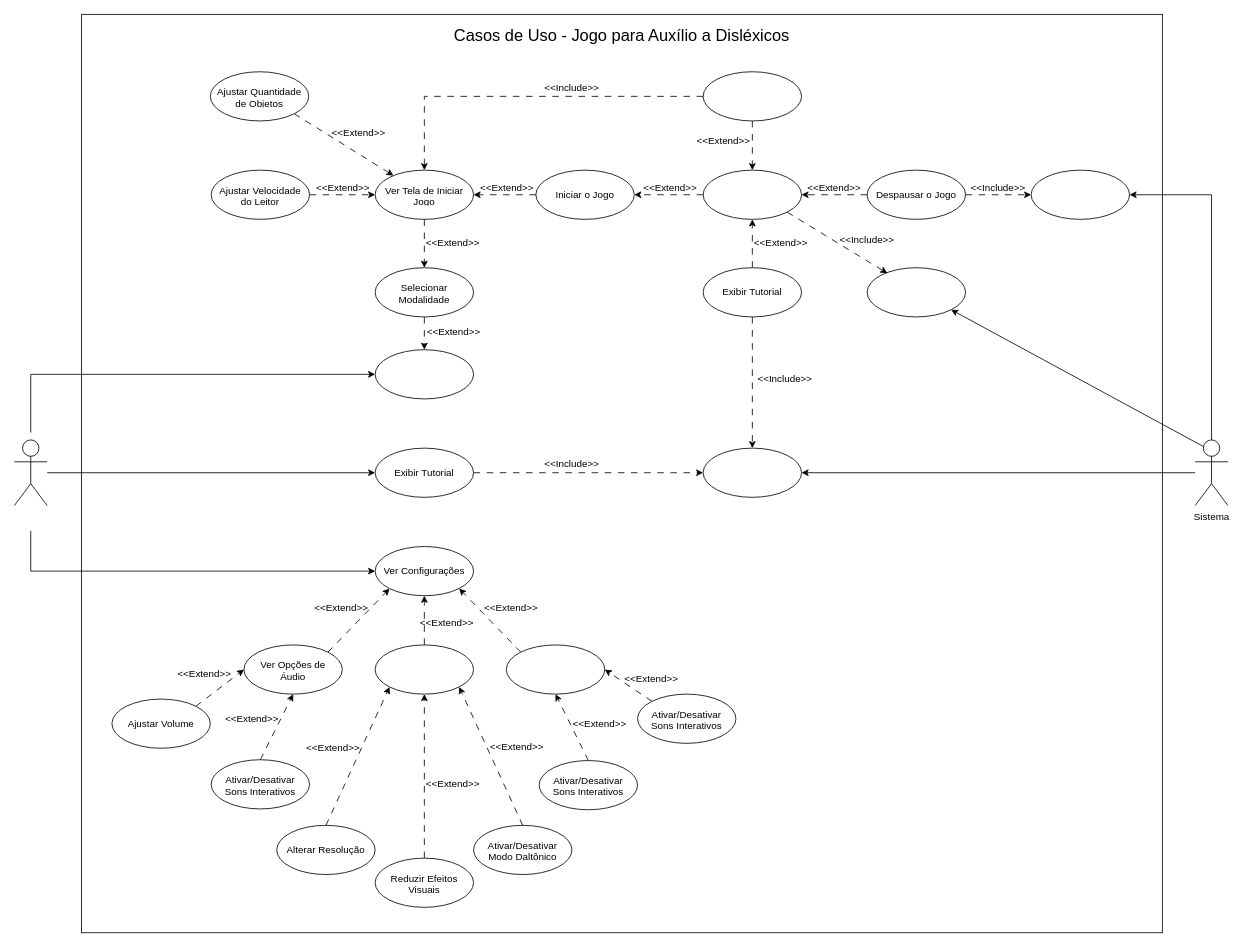
Image size: 1243x947. Some labels were removed from this diagram. The shapes that lost their labels are listed below. From the top down, each one's centre as x and y in pixels, then its label:
At [752,96]: "Sair do Jogo".
At [752,194]: "Exibir Menu de Pausa".
At [1080,194]: "Retomar o Jogo".
At [916,292]: "Pausar o Jogo".
At [424,374]: "Ver Tela de Seleção de Modalidade".
At [30,472]: "Usuário".
At [752,472]: "Reproduzir o Vídeo de Tutorial".
At [424,669]: "Ver Opções de Vídeo".
At [555,669]: "Ver Opções de Conta".
